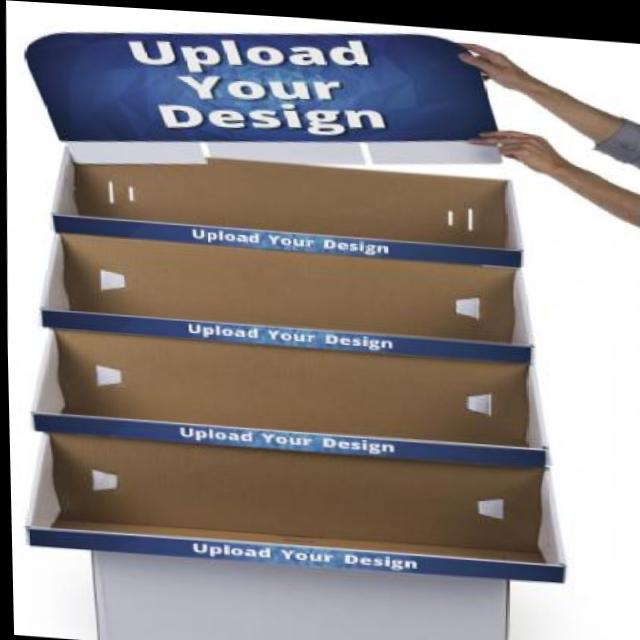box: (0, 0, 585, 640)
